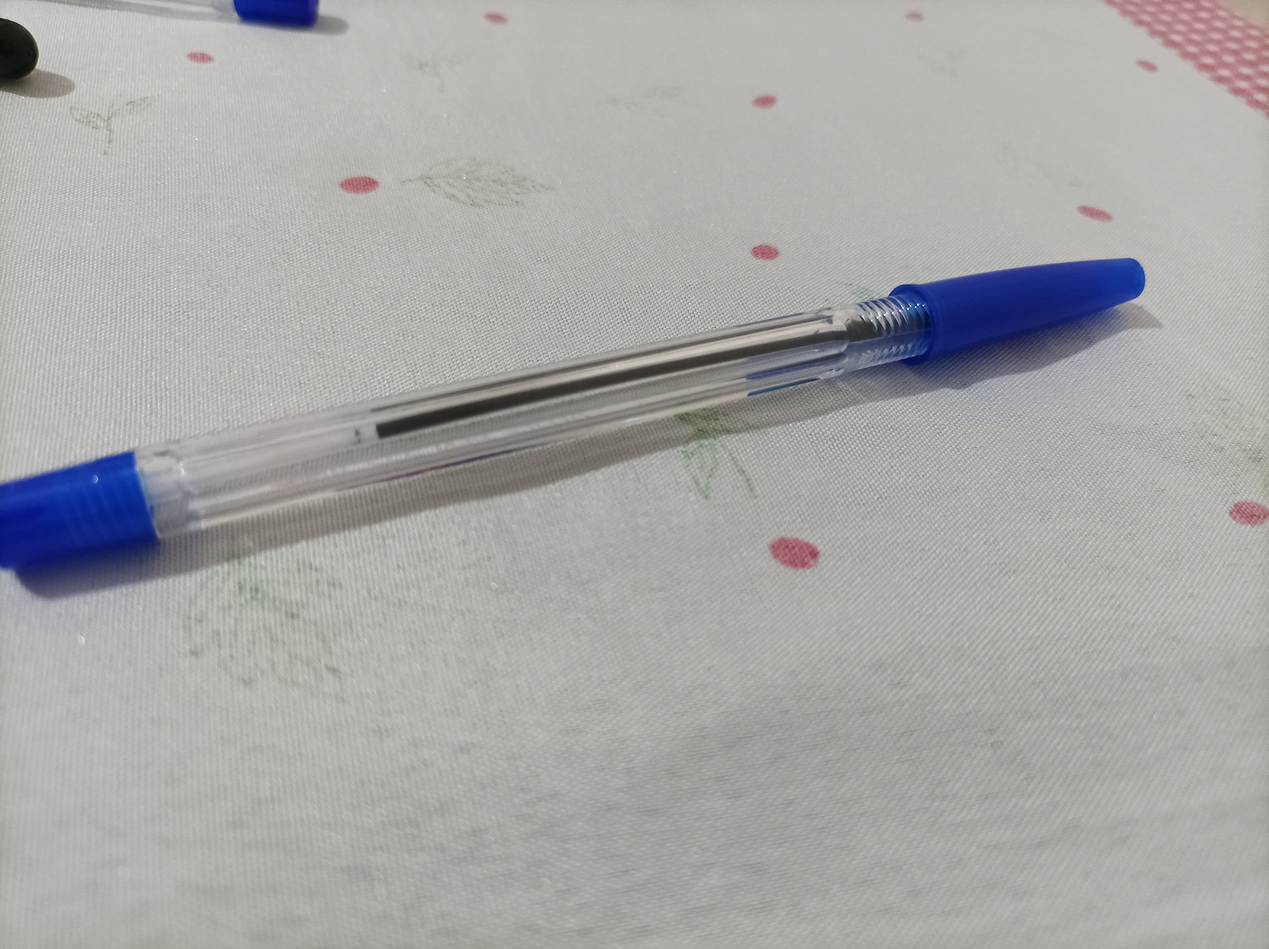plastic: (17, 257, 1152, 574)
